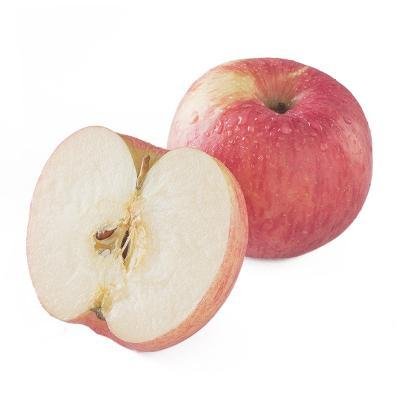apple: (166, 58, 372, 262)
